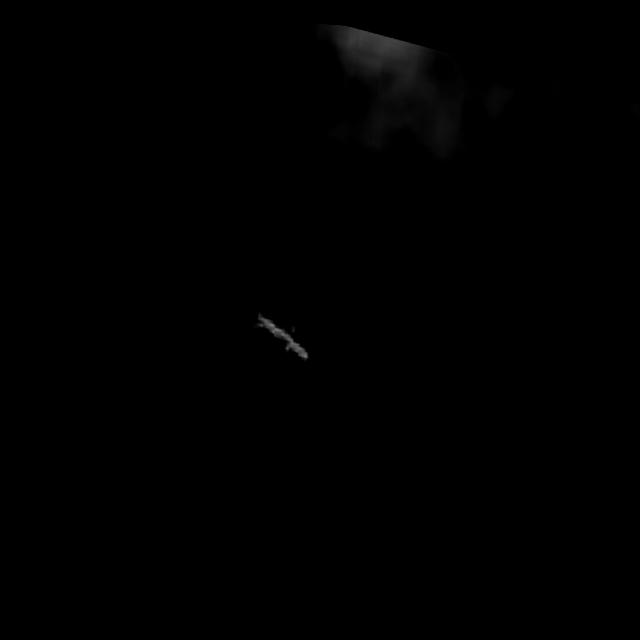aeroplane: (233, 288, 319, 372)
